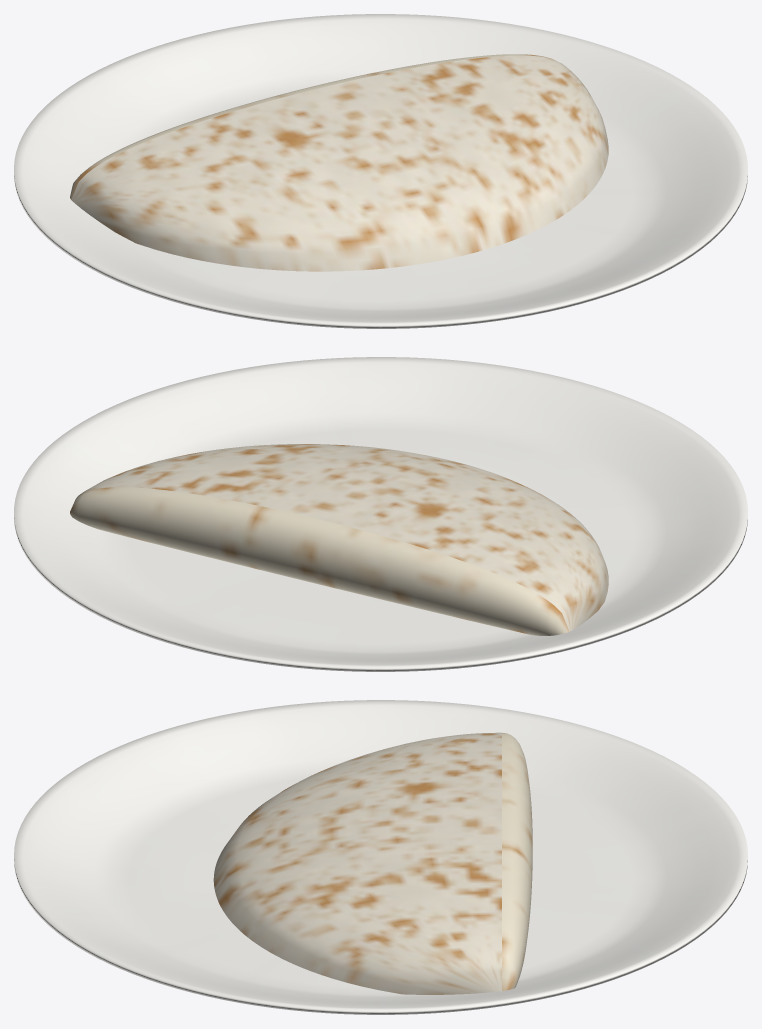
File: tapioca-crepe.glb
3 views of the same model, one above another, from view 1: azimuth 30°, elevation 25°; view 2: azimuth 150°, elevation 25°; view 3: azimuth 270°, elevation 25° (orthographic).
Visible parts, largest first — view 1: ceramic, satin; view 2: ceramic, satin; view 3: ceramic, satin.
Part boxes in pixels (x1,y1,x2,y2): ceramic: (14,14,747,328); satin: (70,54,608,271); ceramic: (14,357,747,671); satin: (70,444,608,635); ceramic: (14,700,747,1014); satin: (213,732,532,994).
Size of the model in its own units: 0.28 by 0.032 by 0.28.
2 materials, 2 textured.
